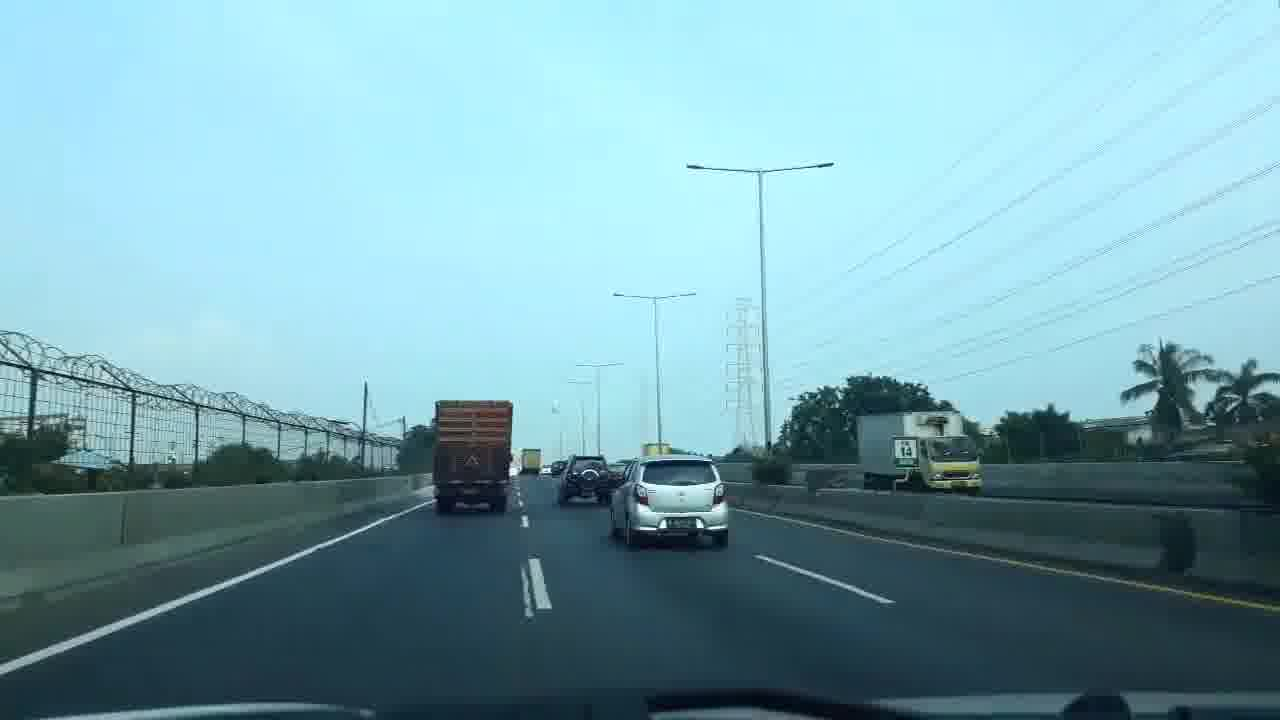plate_positive: (666, 518, 696, 529)
